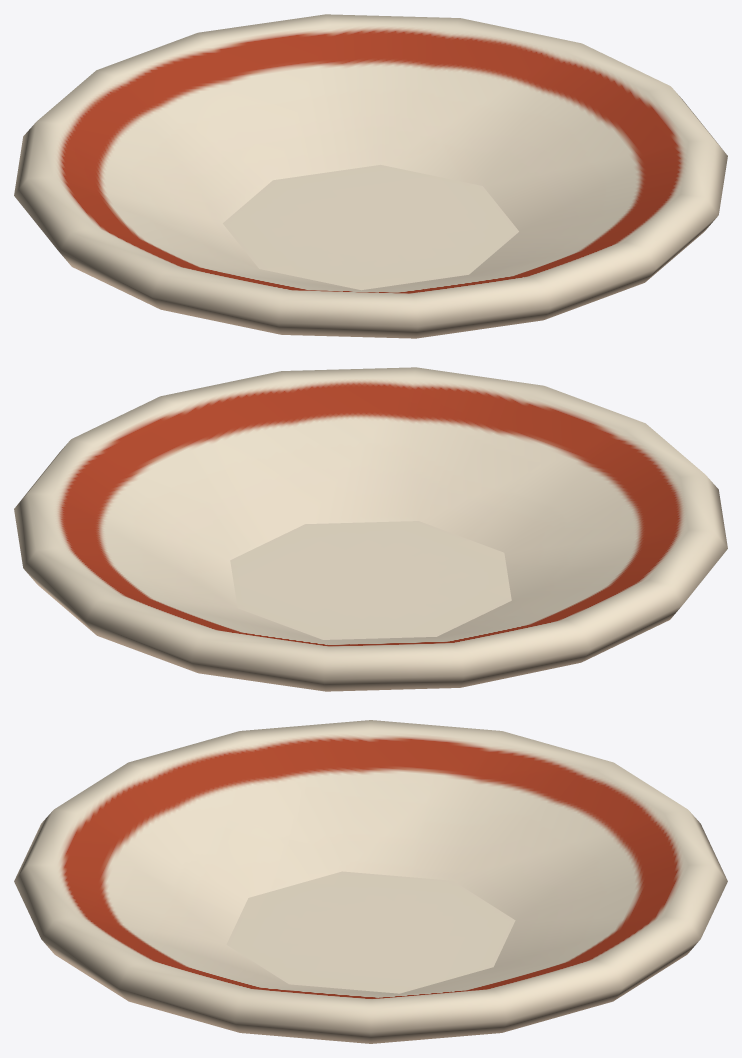
Rendered from plate_01.fbx.
3 renders of one model, top to bottom at view 1: azimuth 30°, elevation 25°; view 2: azimuth 150°, elevation 25°; view 3: azimuth 270°, elevation 25°, orthographic.
Parts seen in each view (by area): view 1: plate_01_ready; view 2: plate_01_ready; view 3: plate_01_ready.
Part boxes in pixels (<box>): plate_01_ready: <box>14,14,727,338</box>; plate_01_ready: <box>14,367,727,691</box>; plate_01_ready: <box>14,720,727,1043</box>.
Size of the model in its own units: 36.69 by 5.87 by 36.69.
